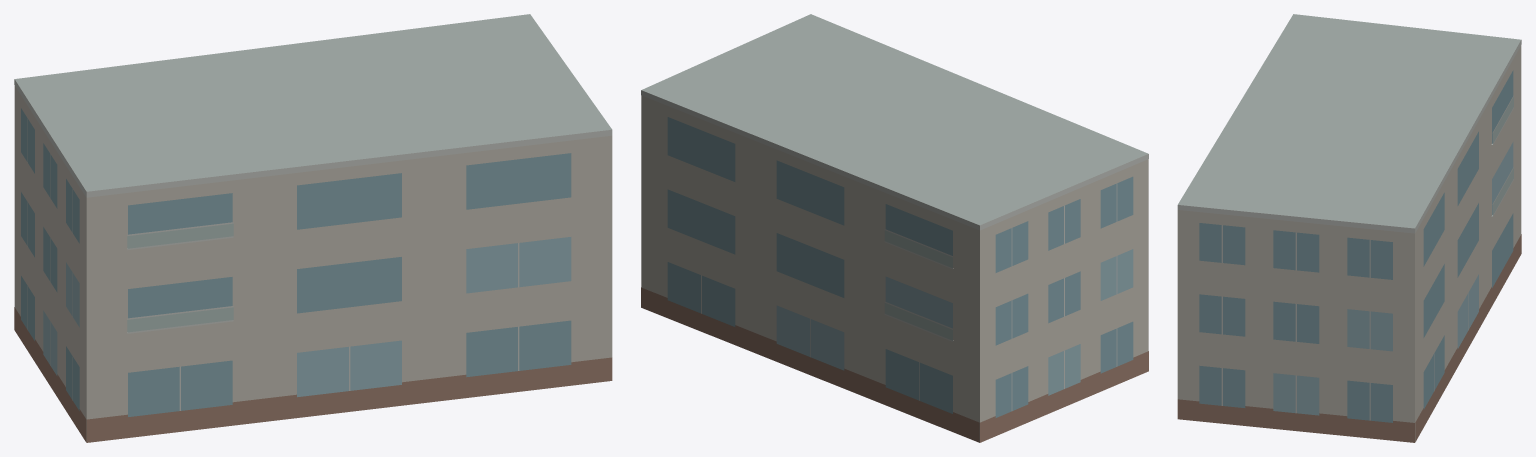
File: survey-upis-32887435.glb
The picture shows the model from 3 angles, left to right: view 1: azimuth 30°, elevation 25°; view 2: azimuth 150°, elevation 25°; view 3: azimuth 270°, elevation 25°; orthographic projection. The views are drawn at different scales.
Visible parts, largest first — view 1: survey-upis-32887435.tmp; view 2: survey-upis-32887435.tmp; view 3: survey-upis-32887435.tmp.
Part boxes in pixels (bbox=[...]): survey-upis-32887435.tmp: bbox=[14, 14, 612, 442]; survey-upis-32887435.tmp: bbox=[641, 14, 1148, 442]; survey-upis-32887435.tmp: bbox=[1177, 14, 1521, 442].
Size of the model in its own units: 22.11 by 10.3 by 14.98.
